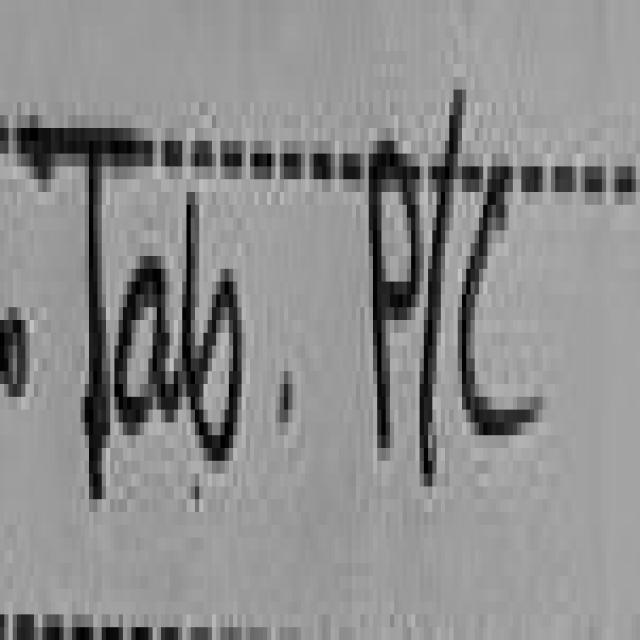P: (462, 166, 543, 435), (369, 146, 421, 452)
T: (16, 127, 154, 499)
a: (119, 269, 178, 435)
b: (186, 192, 242, 461)
